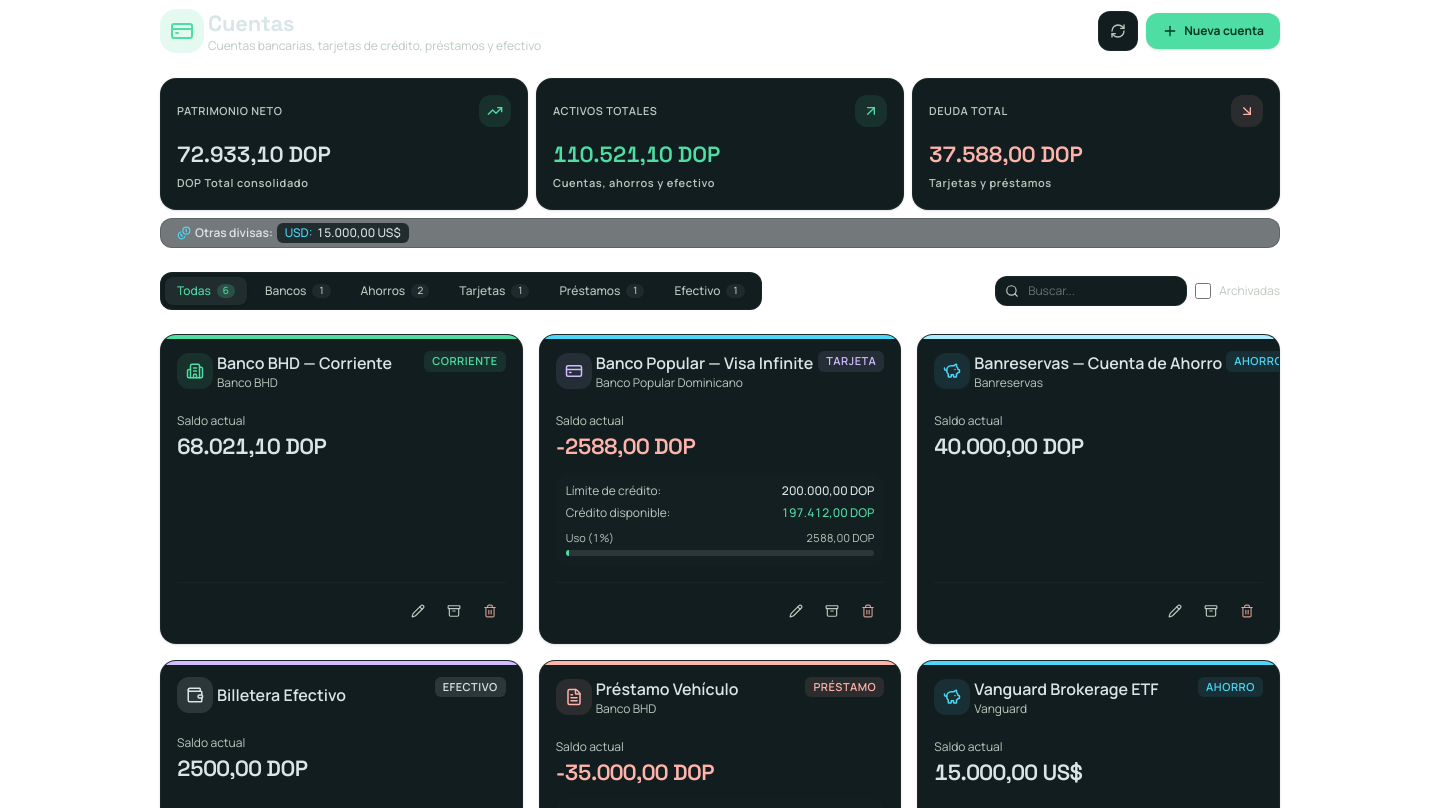
Test case: AccountsPage Integration › filters accounts by type tabs
Expected: the heading "Banco BHD — Corriente" is shown, [217,351,392,375]
Click "Tarjetas" tab
Click the tab "Tarjetas 1".
click(494, 291)  # box [447,277,542,305]
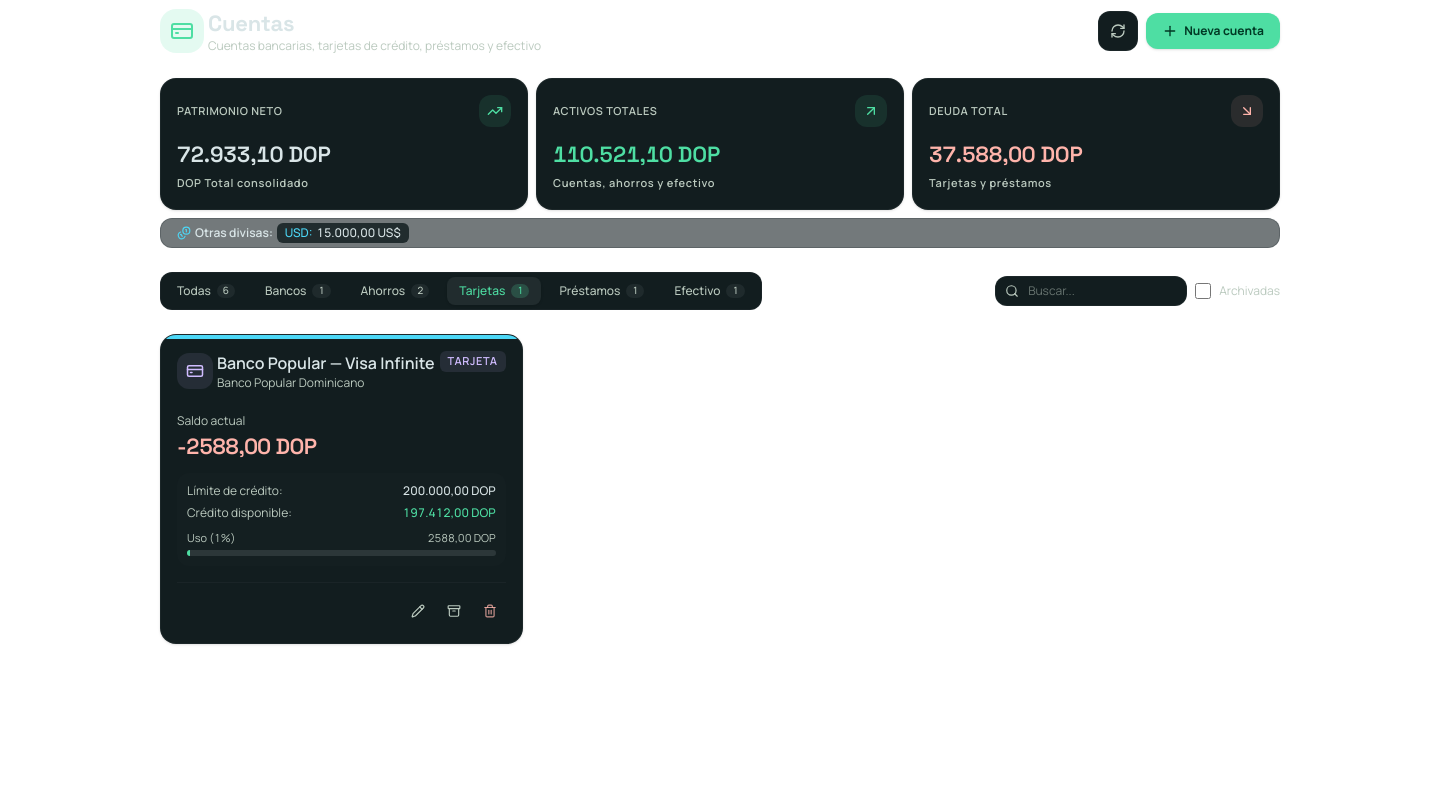
Expected: the heading "Banco Popular — Visa Infinite" is shown, [217,351,435,375]
Now the heading "Banco BHD — Corriente" is gone
Click "Préstamos" tab
Click the tab "Préstamos 1".
click(602, 291)  # box [548,277,656,305]
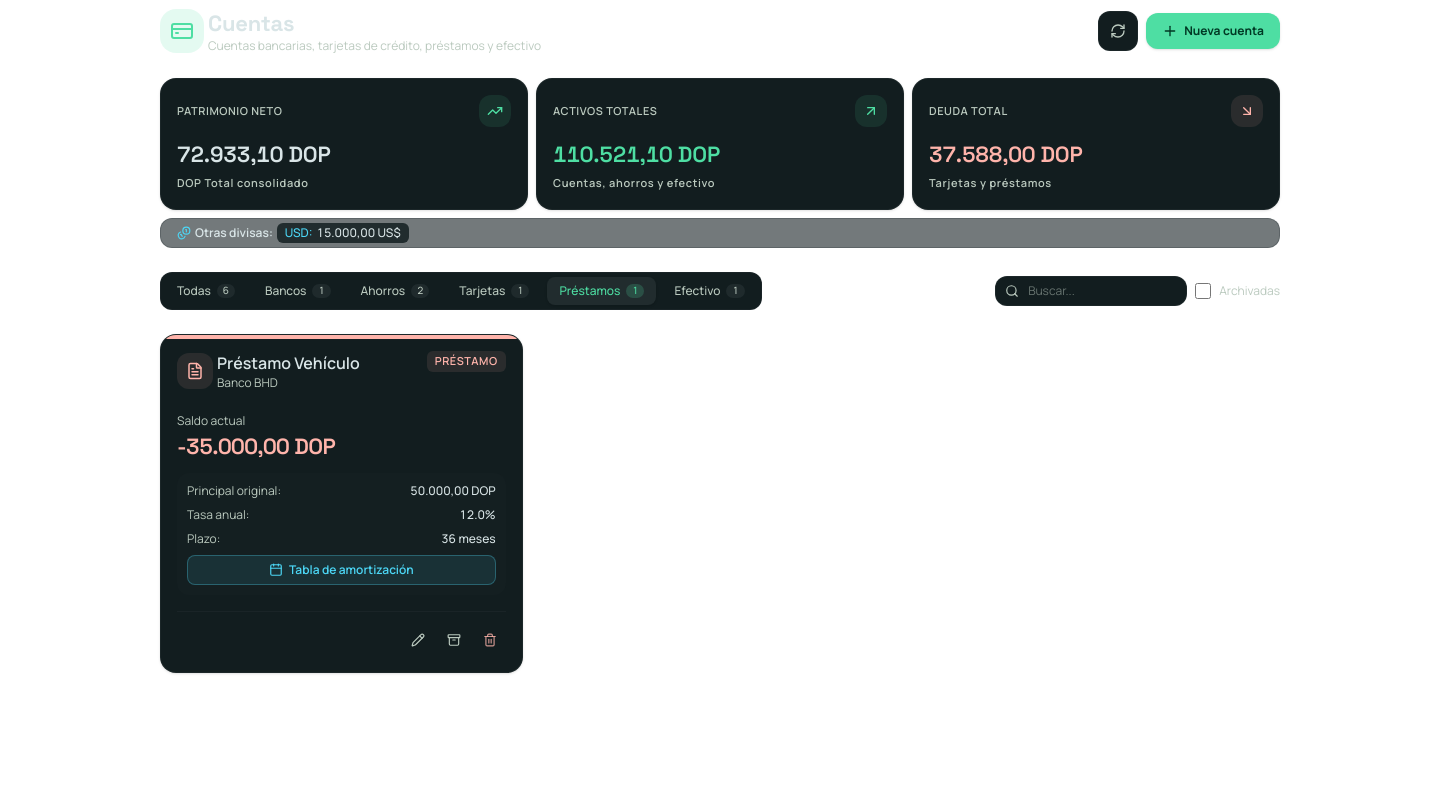
Now the heading "Préstamo Vehículo" is shown, box [217,351,360,375]
Now the heading "Banco Popular — Visa Infinite" is gone
